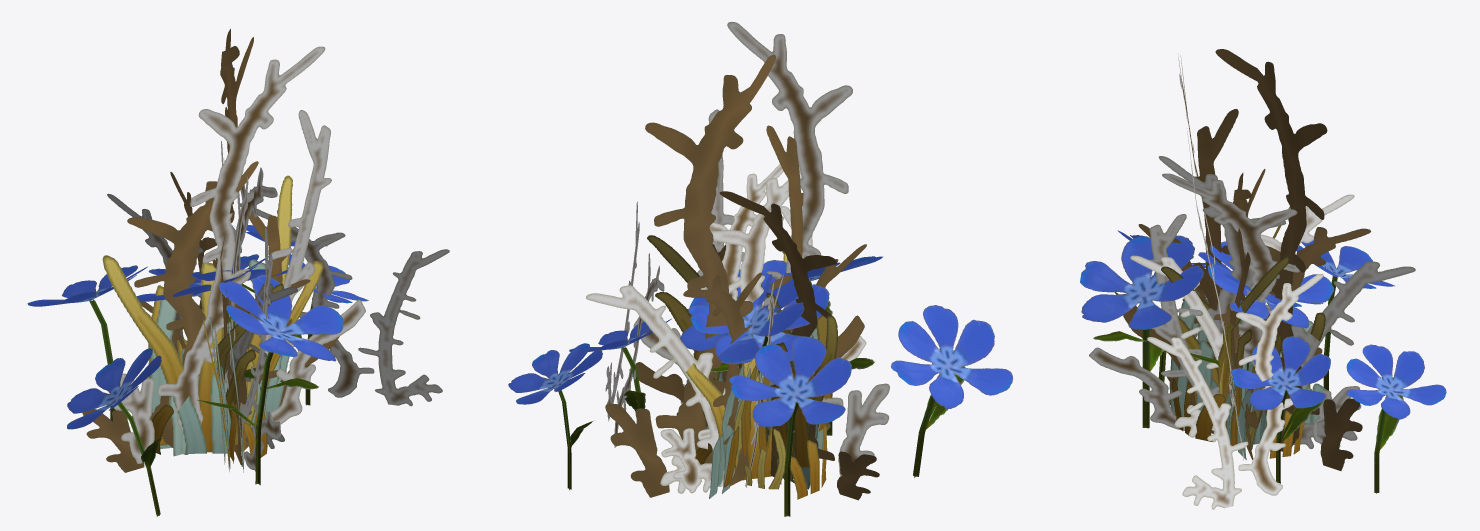
Rendered from SM_FoliageGround.fbx.
3 views of the same model, side by side, from view 1: azimuth 30°, elevation 25°; view 2: azimuth 150°, elevation 25°; view 3: azimuth 270°, elevation 25° (orthographic). The views are drawn at different scales.
Parts seen in each view (by area): view 1: SM_SnowBushes_02, SM_BlueFlowers_02, SM_AridBushes_01, SM_AridGrass_01, SM_SnowBushes_01, SM_SnowGrass_03, SM_AridBushes_02, SM_SnowGrass_04, SM_SnowGrass_02, SM_AridGrass_04, SM_BlueFlowers_03, SM_BlueFlowers_01 (+3 smaller); view 2: SM_AridBushes_01, SM_BlueFlowers_02, SM_SnowBushes_02, SM_SnowBushes_01, SM_BlueFlowers_03, SM_AridGrass_01, SM_AridBushes_02, SM_AridGrass_03, SM_BlueFlowers_01, SM_AridGrass_04, SM_SnowGrass_04; view 3: SM_SnowBushes_02, SM_BlueFlowers_02, SM_AridBushes_01, SM_SnowBushes_01, SM_BlueFlowers_03, SM_AridGrass_01, SM_AridBushes_02, SM_SnowGrass_02, SM_AridGrass_04, SM_AridGrass_03, SM_SnowGrass_01, SM_SnowGrass_04 (+1 smaller).
Boxes of the visible parts, x1,y1,x2,y2 form: SM_SnowBushes_02: (114, 46, 449, 471); SM_BlueFlowers_02: (27, 254, 368, 516); SM_AridBushes_01: (82, 29, 339, 472); SM_AridGrass_01: (102, 175, 323, 452); SM_SnowBushes_01: (107, 141, 297, 448); SM_SnowGrass_03: (173, 324, 262, 471); SM_AridBushes_02: (140, 172, 310, 463); SM_SnowGrass_04: (150, 299, 230, 464); SM_SnowGrass_02: (169, 259, 282, 472); SM_AridGrass_04: (183, 318, 267, 468); SM_BlueFlowers_03: (148, 225, 327, 378); SM_BlueFlowers_01: (136, 254, 269, 301); SM_AridBushes_01: (605, 54, 879, 500); SM_BlueFlowers_02: (569, 256, 1012, 516); SM_SnowBushes_02: (605, 21, 889, 493); SM_SnowBushes_01: (586, 169, 801, 493); SM_BlueFlowers_03: (508, 271, 804, 489); SM_AridGrass_01: (647, 235, 838, 480); SM_AridBushes_02: (683, 244, 866, 486); SM_AridGrass_03: (695, 342, 827, 499); SM_BlueFlowers_01: (688, 260, 829, 377); SM_AridGrass_04: (723, 310, 832, 487); SM_SnowGrass_04: (709, 333, 813, 498); SM_SnowBushes_02: (1089, 53, 1361, 509); SM_BlueFlowers_02: (1080, 230, 1394, 483); SM_AridBushes_01: (1123, 49, 1362, 470); SM_SnowBushes_01: (1130, 156, 1415, 449); SM_BlueFlowers_03: (1190, 241, 1446, 493); SM_AridGrass_01: (1161, 206, 1325, 445); SM_AridBushes_02: (1138, 224, 1370, 445); SM_SnowGrass_02: (1169, 290, 1282, 436); SM_AridGrass_04: (1172, 356, 1310, 441); SM_AridGrass_03: (1246, 320, 1304, 458); SM_SnowGrass_01: (1211, 366, 1265, 459); SM_SnowGrass_04: (1197, 299, 1326, 449).
Size of the model in its own units: 1.67 by 1.74 by 1.49.
